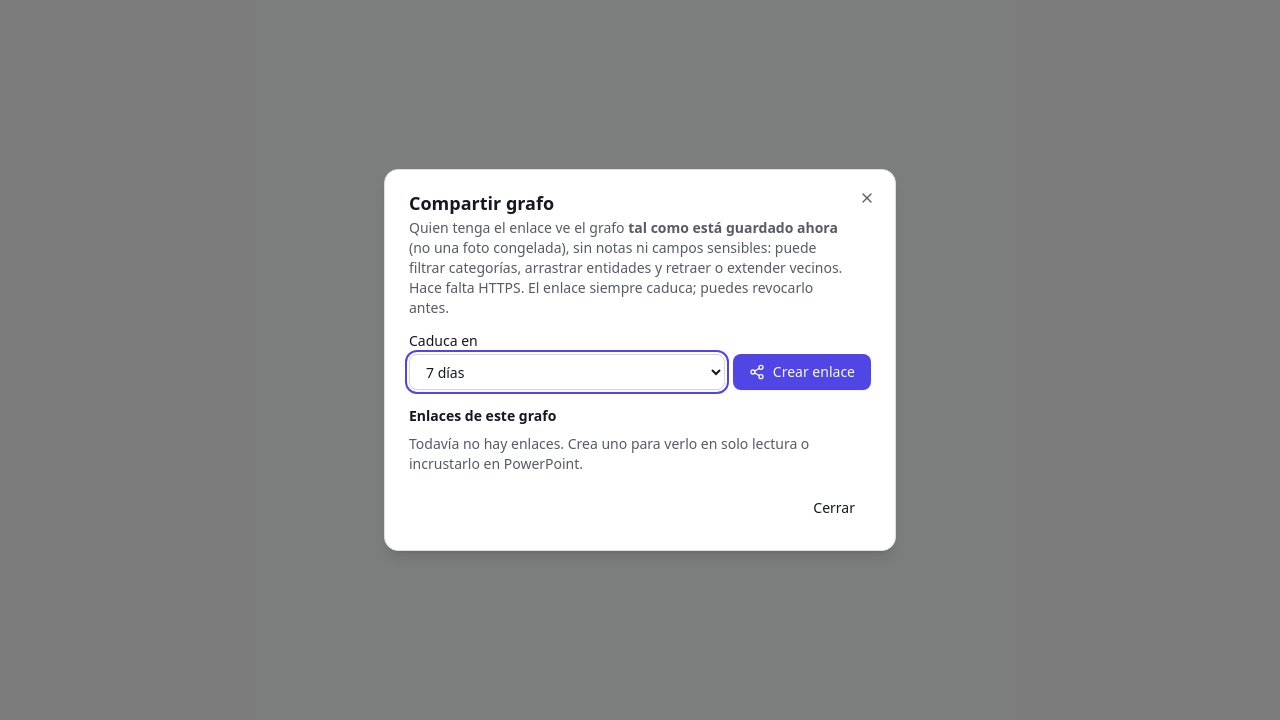
ShareDialog › revoca un enlace activo
Step 1. Click the button "Crear enlace" → x=802, y=372, box [733, 354, 871, 390]
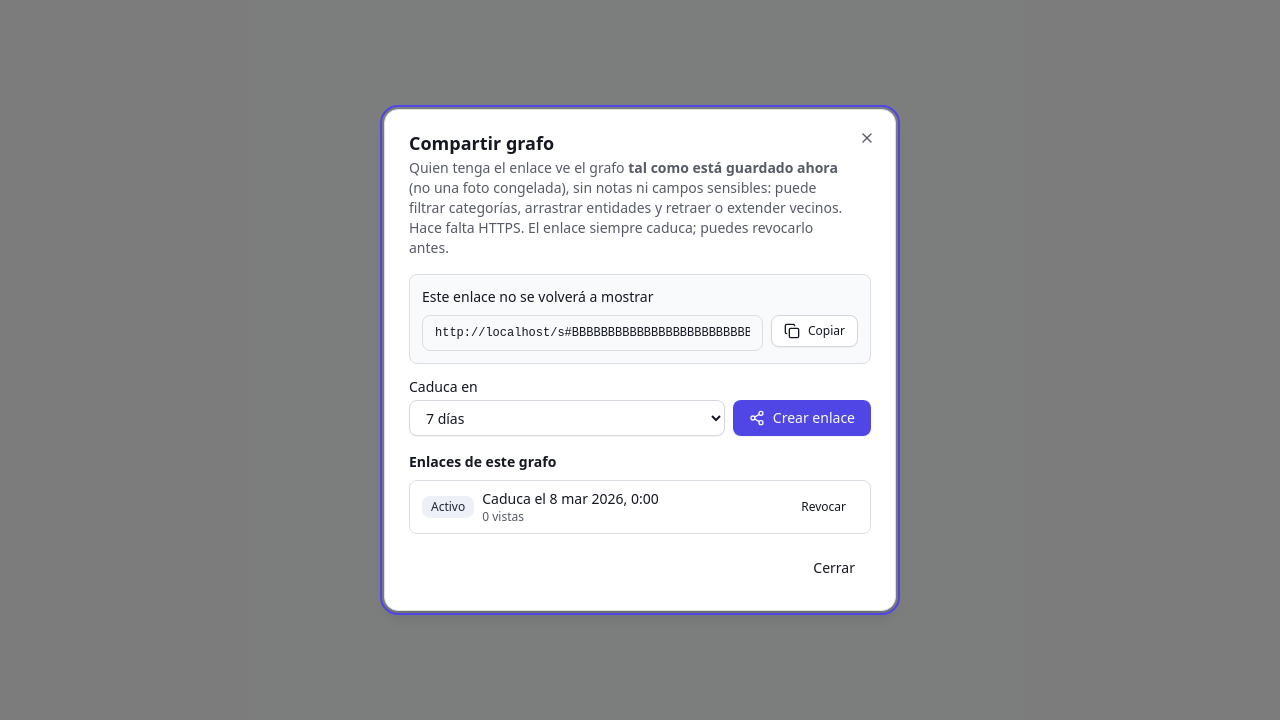
Step 2. Click the button "Revocar" → x=824, y=507, box [789, 491, 858, 523]
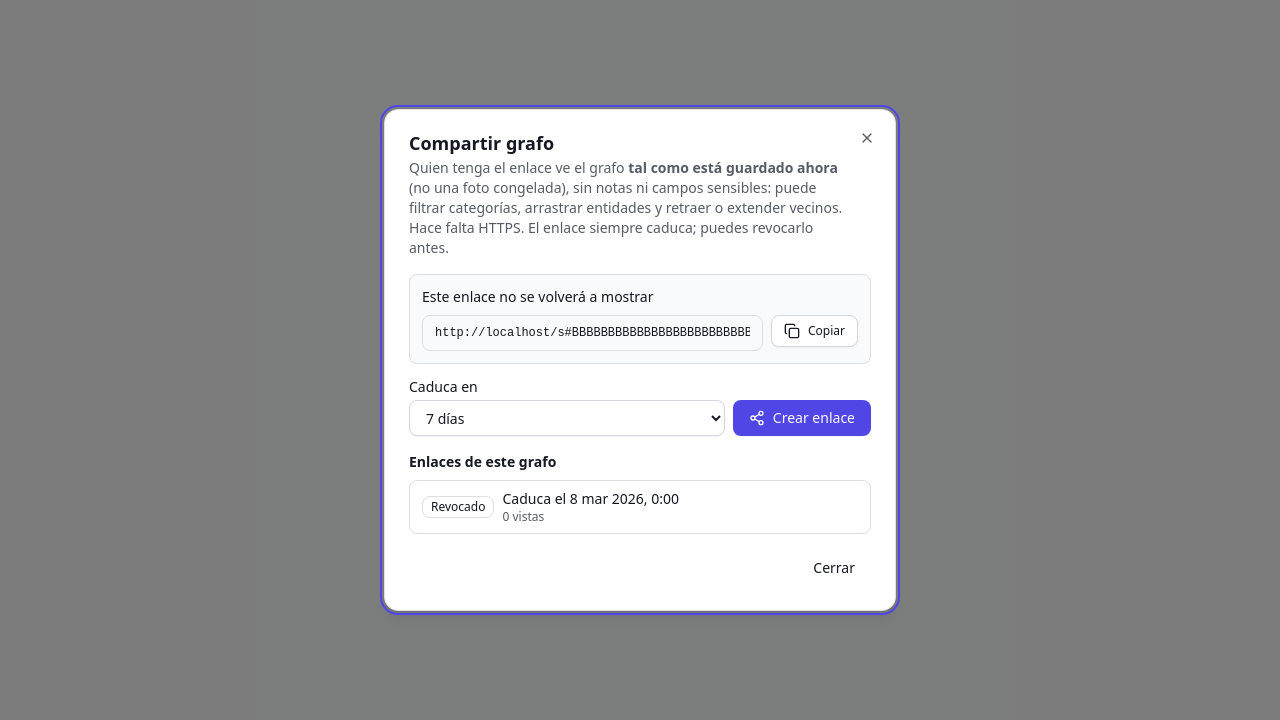
Expected: the button "Revocar" is not shown
Expected: the text "Revocado" is shown, [422, 496, 494, 518]
